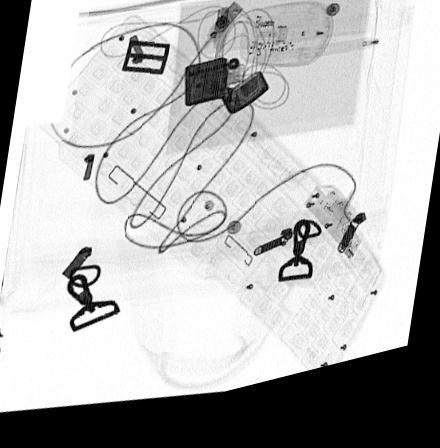Lighter: (185, 67, 269, 125)
